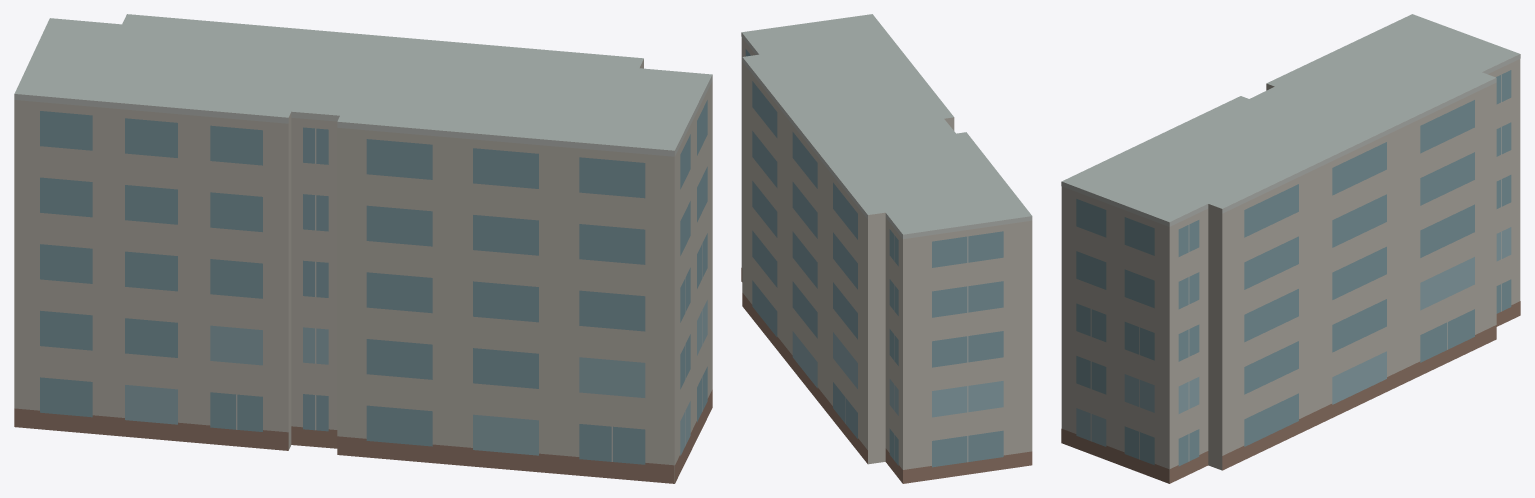
Rendered from survey-upis-32901583.glb.
3 renders of one model, left to right at view 1: azimuth 30°, elevation 25°; view 2: azimuth 150°, elevation 25°; view 3: azimuth 270°, elevation 25°, orthographic. The views are drawn at different scales.
Visible parts, largest first — view 1: survey-upis-32901583.tmp; view 2: survey-upis-32901583.tmp; view 3: survey-upis-32901583.tmp.
Part boxes in pixels (x1=…): survey-upis-32901583.tmp: x1=14, y1=14, x2=712, y2=483; survey-upis-32901583.tmp: x1=741, y1=14, x2=1032, y2=483; survey-upis-32901583.tmp: x1=1061, y1=14, x2=1520, y2=483.
Bounding box in the file's own units: 22.88 × 13.4 × 21.31.
